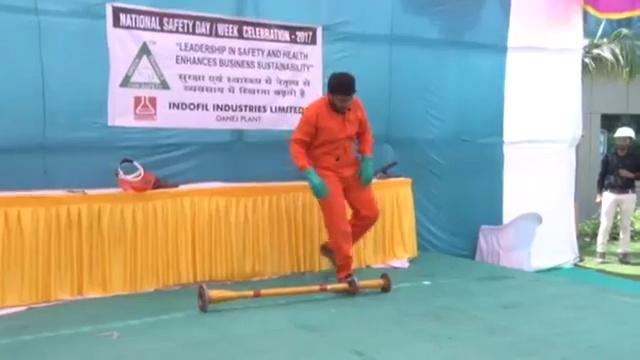helmet: (613, 125, 637, 140)
helmet_off: (326, 71, 357, 115)
helmet_on: (611, 124, 638, 159)
person: (293, 70, 388, 281), (594, 122, 640, 267)
